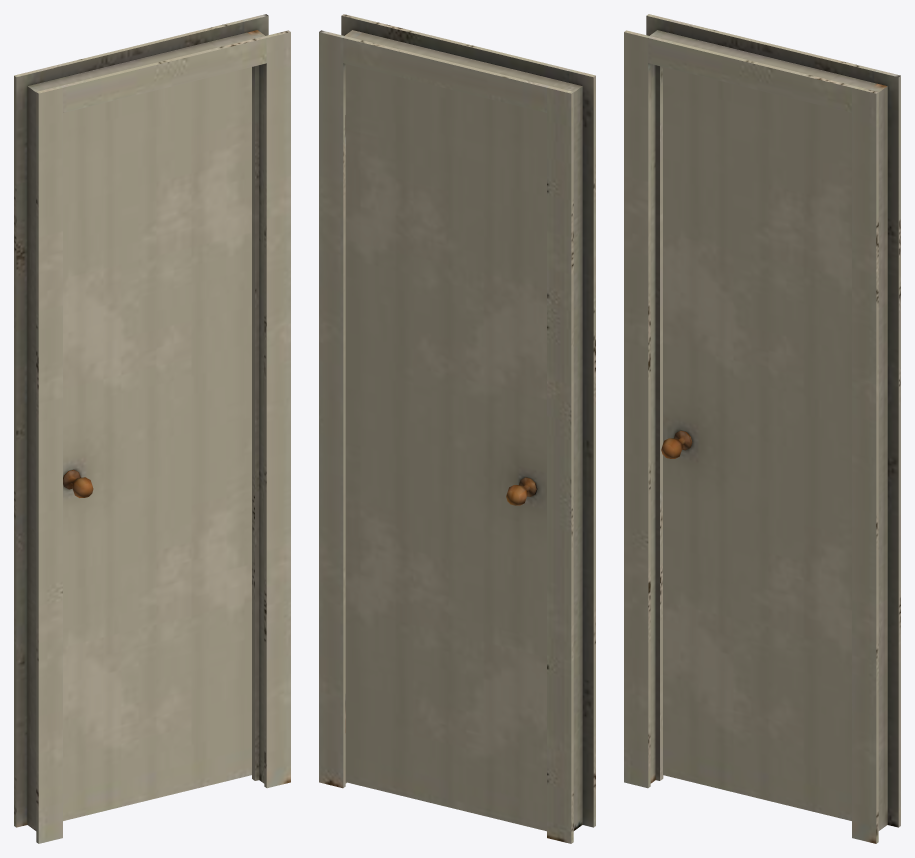
The model's file is door_flat_narrow_lod1_web.glb.
3 renders of one model, left to right at view 1: azimuth 30°, elevation 25°; view 2: azimuth 150°, elevation 25°; view 3: azimuth 330°, elevation 25°, orthographic.
Visible parts, largest first — view 1: Door_Mesh, DoorFlatNarrow_Frame; view 2: Door_Mesh, DoorFlatNarrow_Frame; view 3: Door_Mesh, DoorFlatNarrow_Frame.
Boxes of the visible parts, <box> form: Door_Mesh: <box>63,67,251,820</box>; DoorFlatNarrow_Frame: <box>14,14,290,843</box>; Door_Mesh: <box>345,64,546,831</box>; DoorFlatNarrow_Frame: <box>319,14,595,843</box>; Door_Mesh: <box>661,67,851,820</box>; DoorFlatNarrow_Frame: <box>624,14,900,843</box>.
Size of the model in its own units: 0.73 by 2.07 by 0.212.
1 material, 1 textured.
